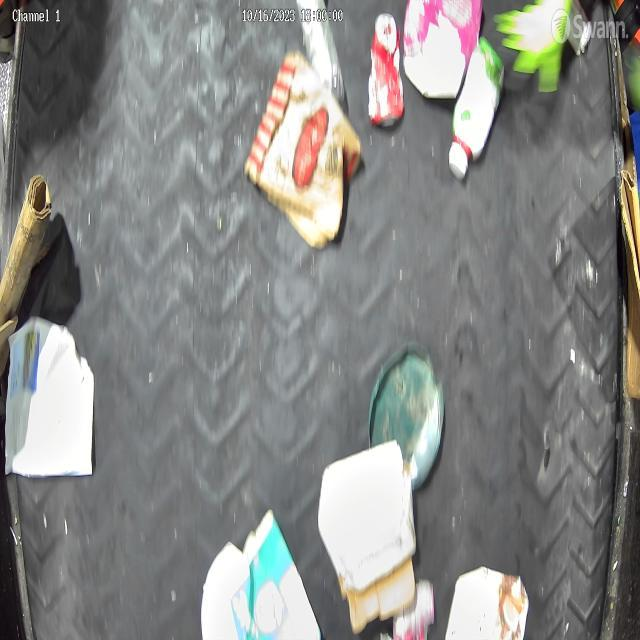can: (368, 11, 402, 128)
milk_jug: (317, 438, 418, 595), (0, 314, 96, 476)
non_white_jug: (200, 508, 322, 640), (402, 0, 483, 101)
